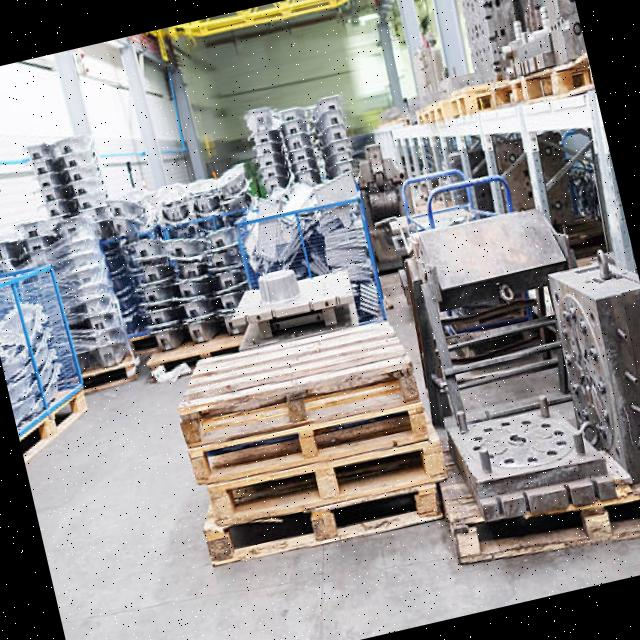Wooden-Pallets: (166, 338, 420, 460), (196, 428, 459, 540), (194, 472, 448, 578), (178, 396, 434, 498), (449, 465, 640, 589)
